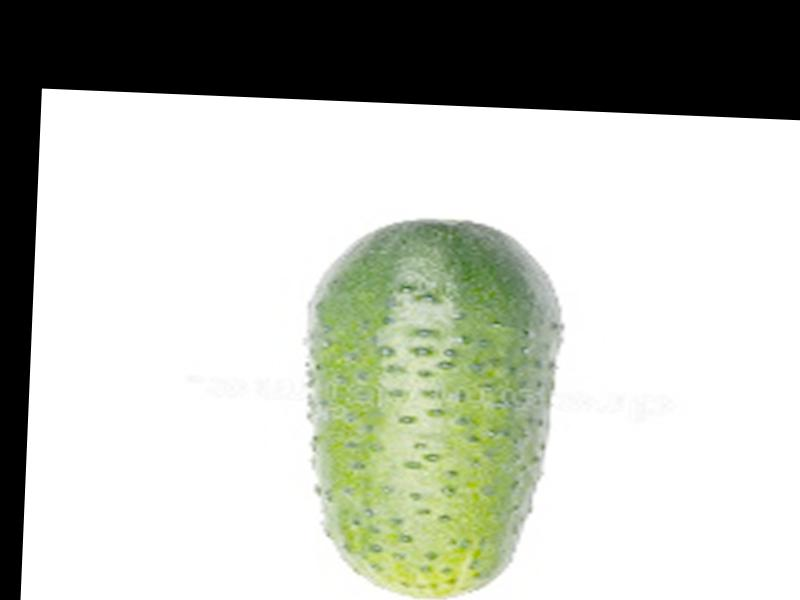Cucumber: (291, 212, 568, 600)
